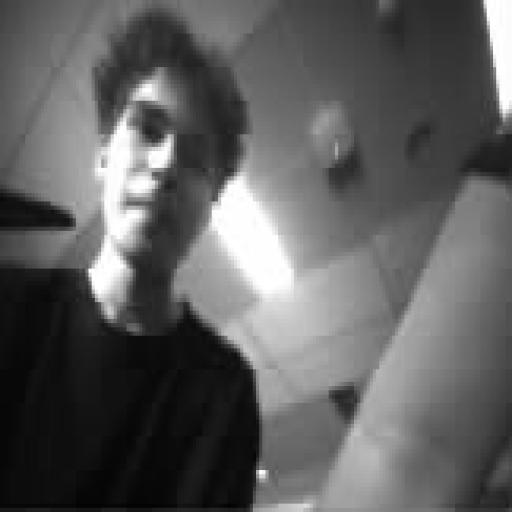human: (0, 5, 262, 507), (317, 131, 511, 511)
